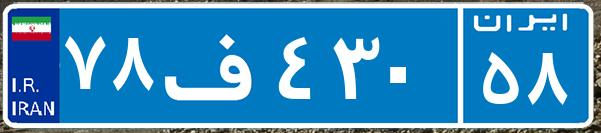0: (385, 28, 445, 110)
3: (330, 28, 385, 110)
4: (273, 28, 330, 110)
5: (475, 38, 525, 113)
7: (57, 26, 110, 107)
8: (110, 28, 158, 105), (525, 38, 570, 115)
ف: (158, 15, 273, 115)
